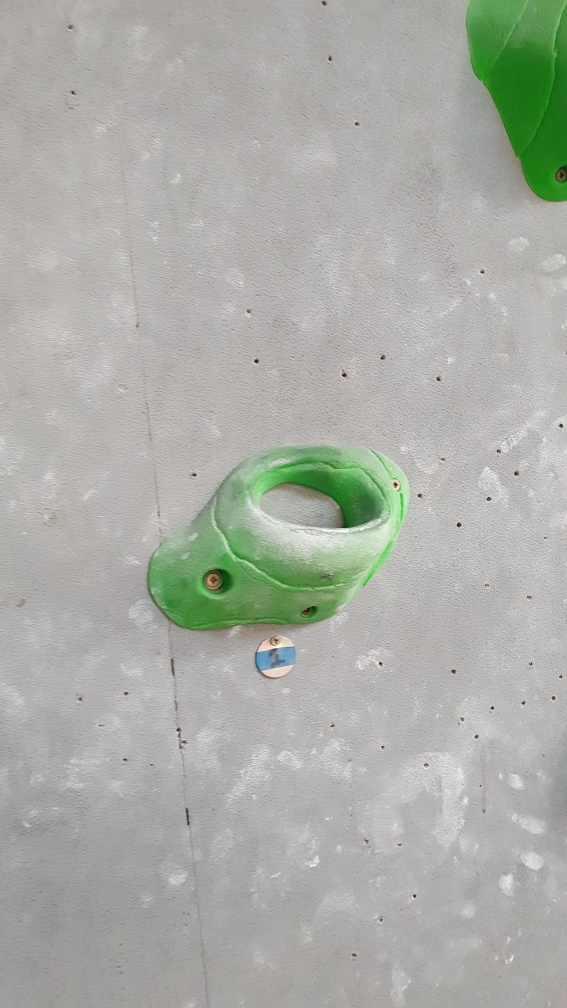Hand Start: (252, 632, 299, 682)
Pocket: (145, 440, 410, 634)
